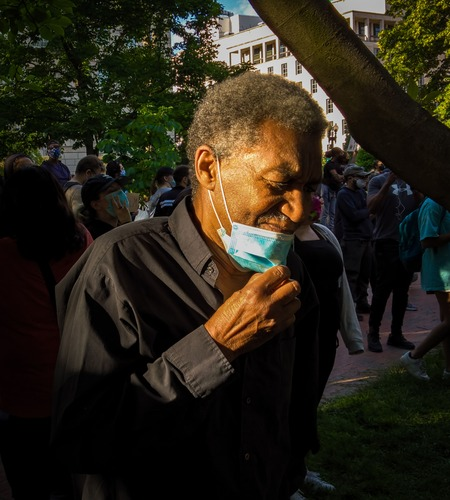with_incorrect_mask: (221, 151, 322, 273)
